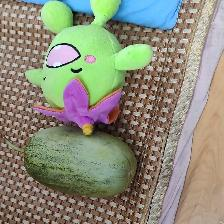gua: (32, 142, 123, 190)
